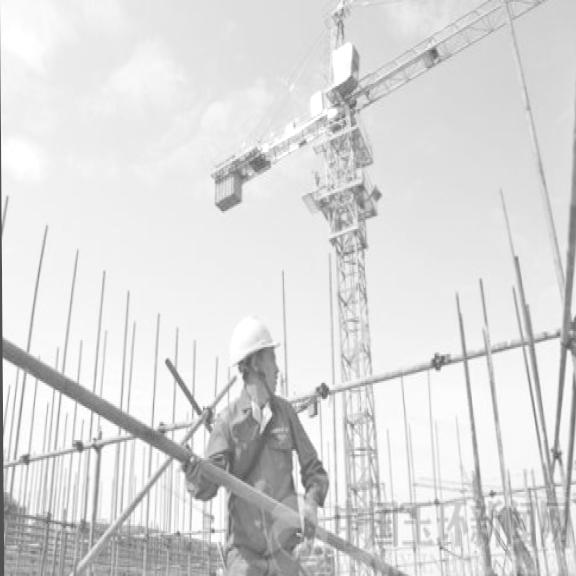no_safety_vest: (209, 399, 327, 560)
